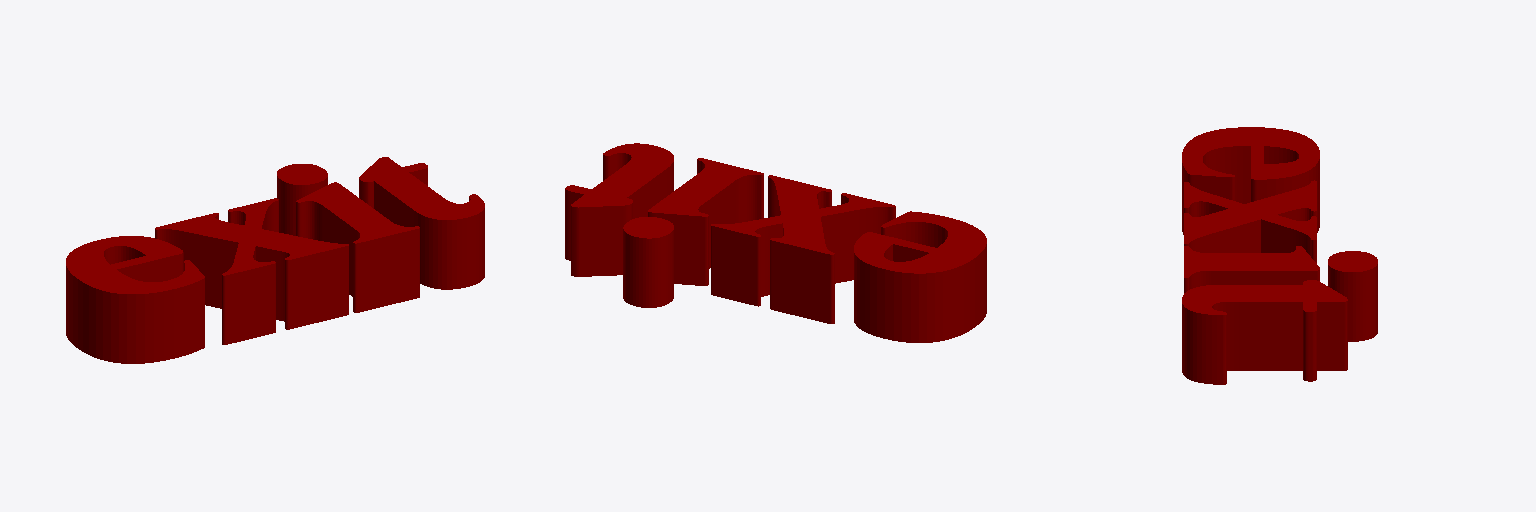
The model's file is exit.obj.
3 views of the same model, side by side, from view 1: azimuth 30°, elevation 25°; view 2: azimuth 150°, elevation 25°; view 3: azimuth 270°, elevation 25° (orthographic).
Visible parts, largest first — view 1: Start; view 2: Start; view 3: Start.
Part boxes in pixels (x1,y1,x2,y2): Start: (66, 157, 484, 363); Start: (565, 143, 986, 342); Start: (1182, 127, 1377, 384).
Size of the model in its own units: 0.9289 by 0.16 by 0.4096.